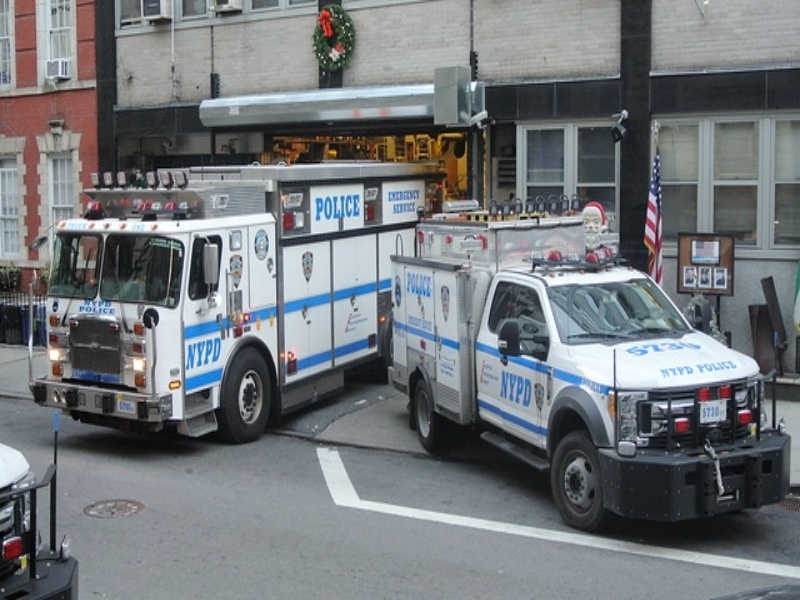policecar: (400, 203, 786, 535), (38, 121, 323, 434)
